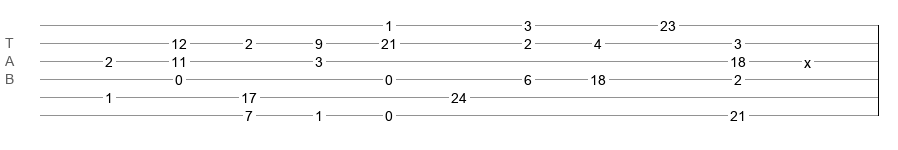0: (175, 72, 183, 82), (385, 108, 393, 118), (385, 72, 393, 82)
1: (105, 90, 113, 100), (315, 108, 323, 118), (385, 18, 393, 28)
11: (171, 54, 187, 64)
12: (171, 36, 187, 46)
17: (241, 90, 257, 100)
18: (590, 72, 606, 82), (730, 54, 746, 64)
2: (105, 54, 113, 64), (245, 36, 253, 46), (524, 36, 532, 46), (734, 72, 742, 82)
21: (381, 36, 397, 46), (730, 108, 746, 118)
23: (660, 18, 676, 28)
24: (451, 90, 467, 100)
3: (315, 54, 323, 64), (524, 18, 532, 28), (734, 36, 742, 46)
4: (594, 36, 602, 46)
6: (524, 72, 532, 82)
7: (245, 108, 253, 118)
9: (315, 36, 323, 46)
x: (804, 55, 811, 63)
